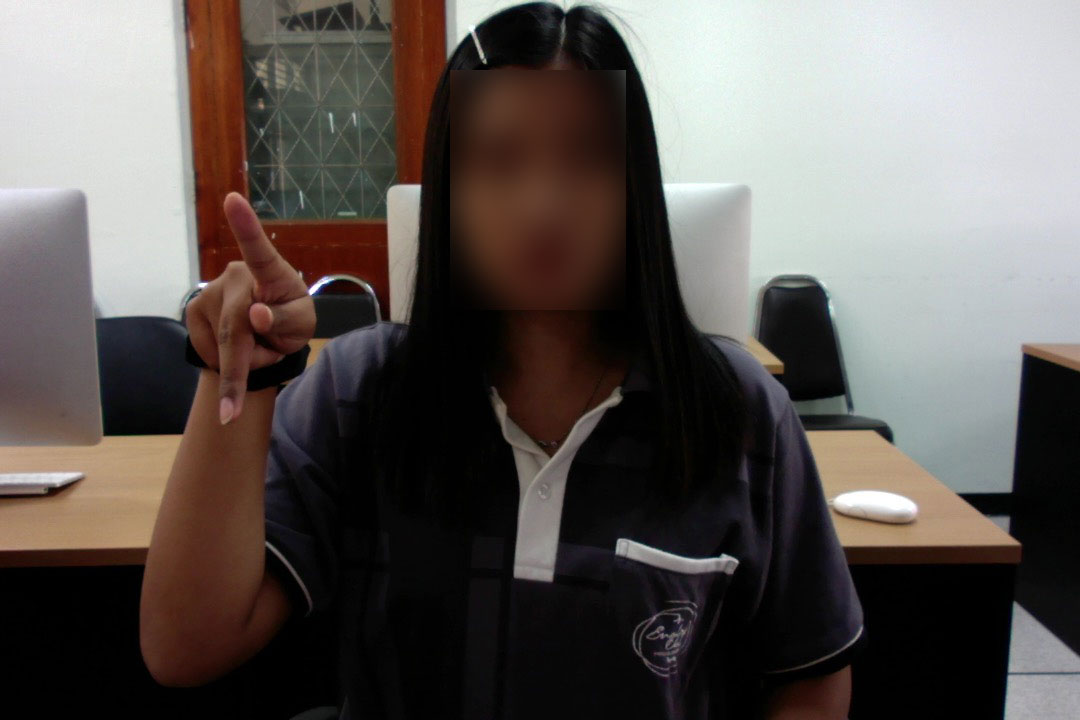por: (166, 188, 323, 436)
